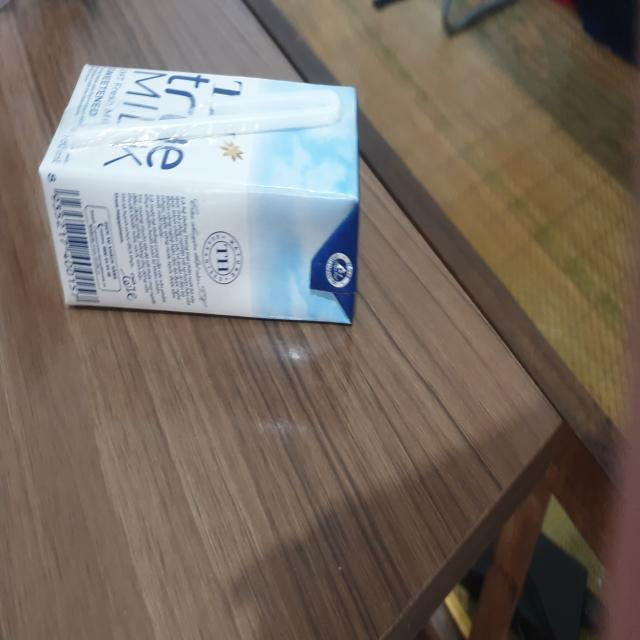TH: (39, 62, 361, 328)
